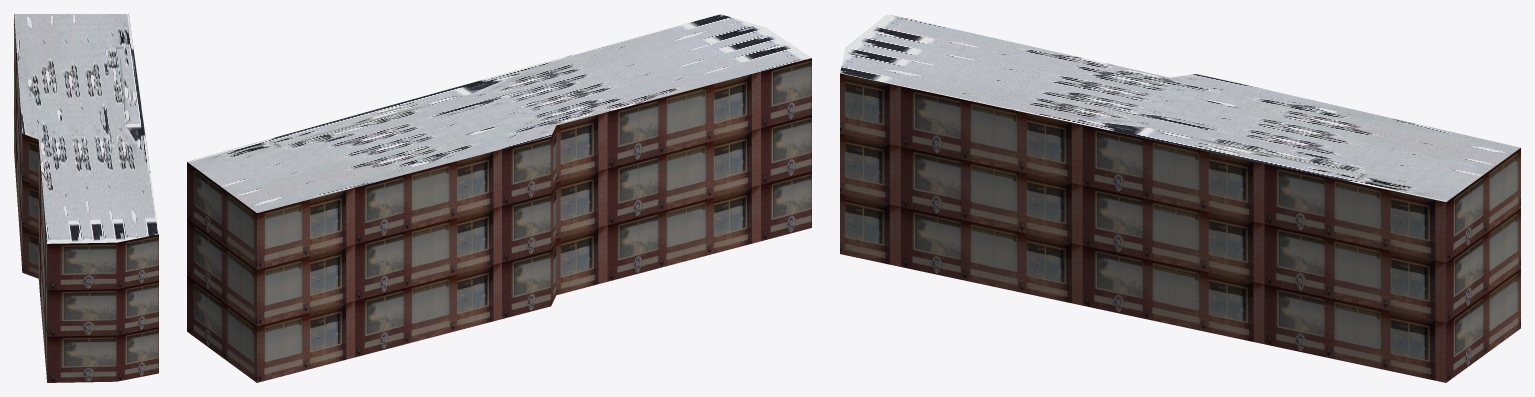
The model's file is ResTex__4048.fbx.
The picture shows the model from 3 angles, left to right: view 1: azimuth 30°, elevation 25°; view 2: azimuth 150°, elevation 25°; view 3: azimuth 270°, elevation 25°; orthographic projection. The views are drawn at different scales.
Visible parts, largest first — view 1: CityEngineMaterial_m, CityEngineMaterial_13_m; view 2: CityEngineMaterial_13_m, CityEngineMaterial_m; view 3: CityEngineMaterial_13_m, CityEngineMaterial_m.
Part boxes in pixels (bbox=[...]): CityEngineMaterial_m: bbox=[14, 14, 158, 243]; CityEngineMaterial_13_m: bbox=[14, 14, 158, 382]; CityEngineMaterial_13_m: bbox=[187, 58, 811, 382]; CityEngineMaterial_m: bbox=[187, 14, 811, 212]; CityEngineMaterial_13_m: bbox=[840, 73, 1520, 382]; CityEngineMaterial_m: bbox=[840, 14, 1520, 201].
Size of the model in its own units: 20.1 by 9 by 30.72.
Materials: 2 (2 with a texture image).
